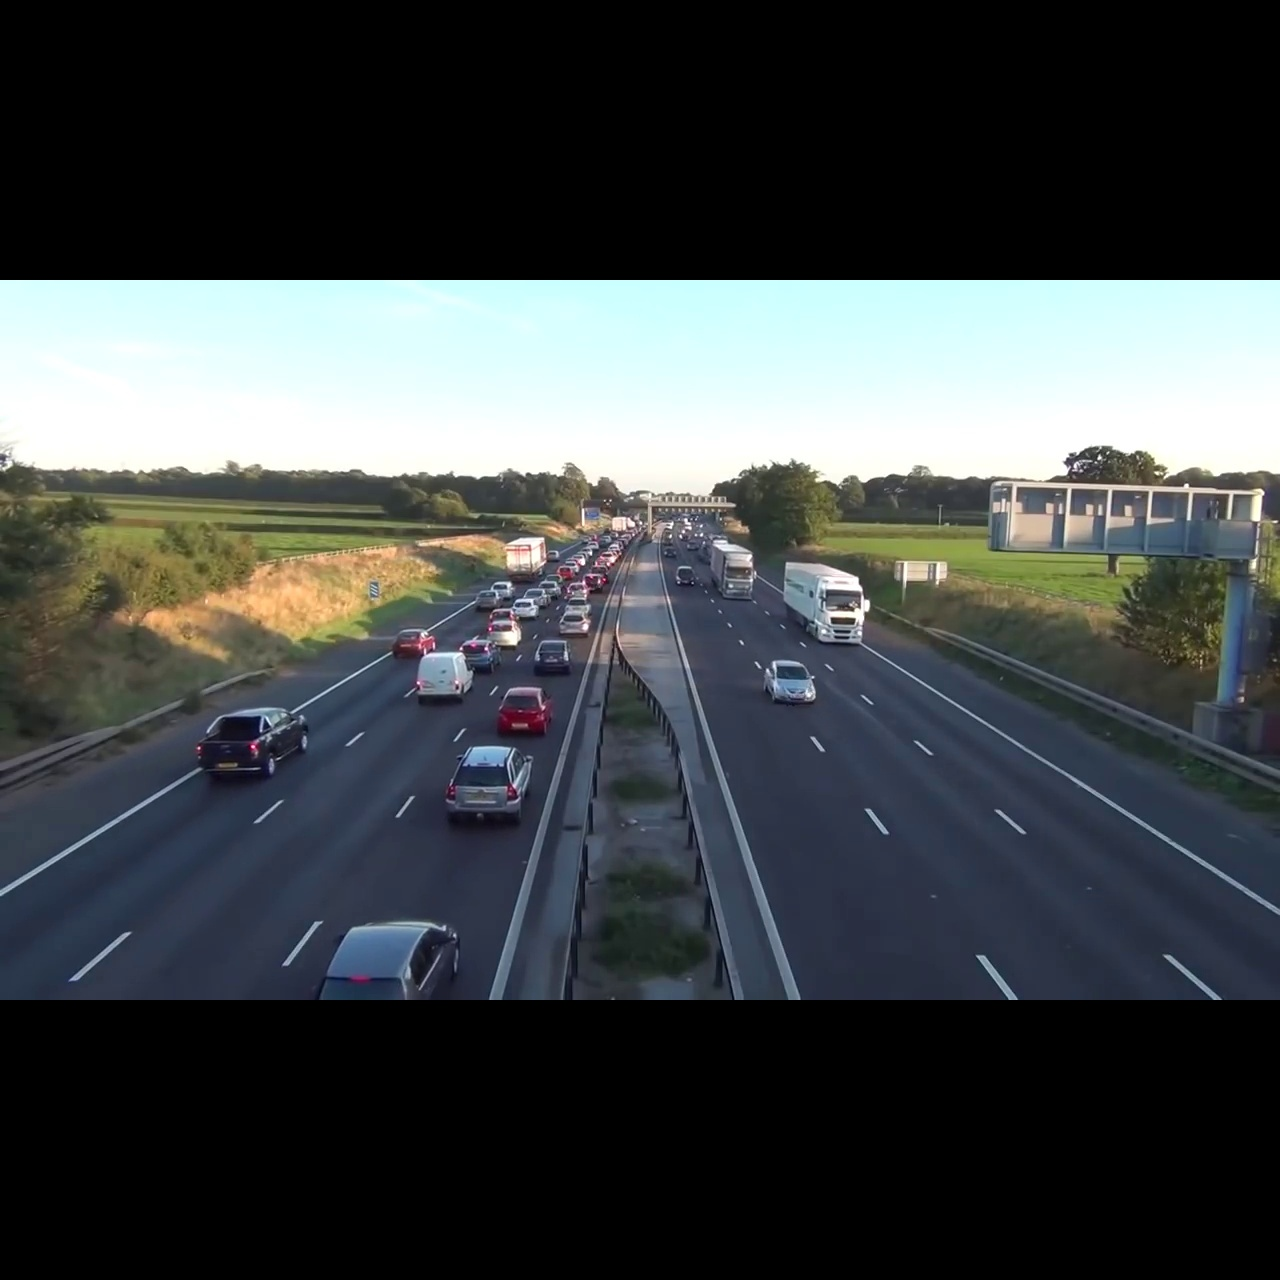vehicle: (320, 912, 471, 998), (195, 697, 316, 779), (442, 742, 539, 825), (783, 560, 874, 647), (495, 683, 557, 736), (417, 652, 475, 706), (760, 653, 818, 704), (710, 543, 757, 601), (532, 639, 574, 676), (390, 627, 436, 658), (461, 640, 503, 673), (486, 620, 523, 648), (557, 610, 592, 638), (674, 565, 697, 587)
